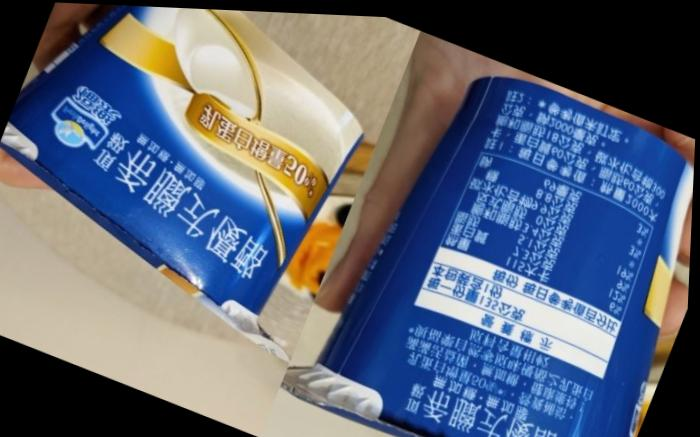plastic: (285, 45, 693, 436), (0, 8, 417, 363)
